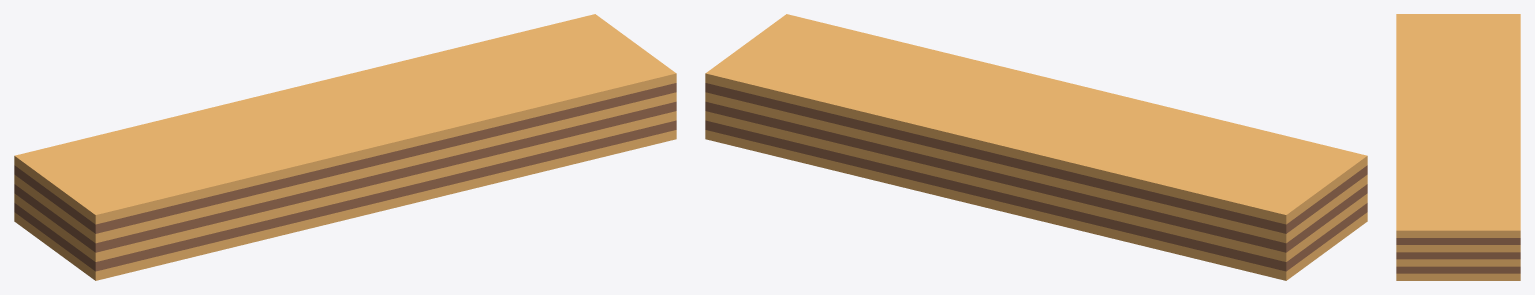
File: CandylandWaflle_02.fbx
3 renders of one model, left to right at view 1: azimuth 30°, elevation 25°; view 2: azimuth 150°, elevation 25°; view 3: azimuth 270°, elevation 25°, orthographic. The views are drawn at different scales.
Visible parts, largest first — view 1: CandylandWaflle_02; view 2: CandylandWaflle_02; view 3: CandylandWaflle_02.
Part boxes in pixels (x1,y1,x2,y2): CandylandWaflle_02: [14, 14, 676, 280]; CandylandWaflle_02: [705, 14, 1367, 280]; CandylandWaflle_02: [1396, 14, 1520, 280].
Bounding box in the file's own units: 1.34 × 0.1451 × 0.3244.
